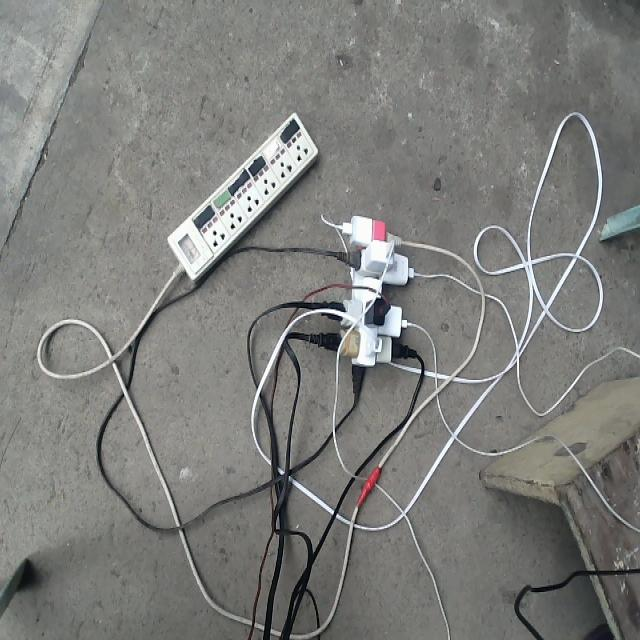-: (319, 209, 424, 399), (321, 212, 426, 401)
